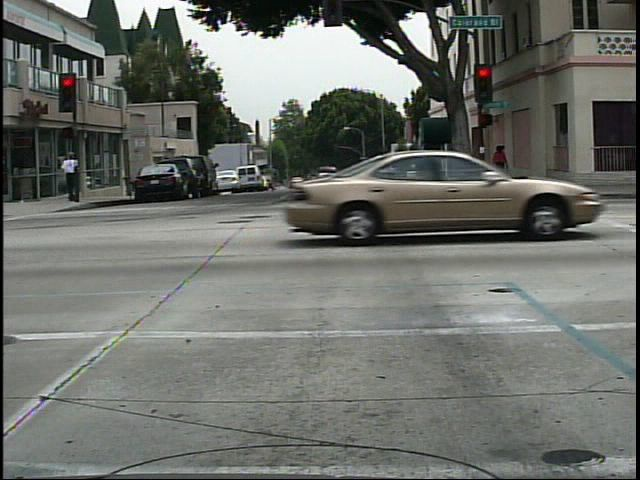person: (485, 138, 515, 192), (58, 143, 80, 207)
